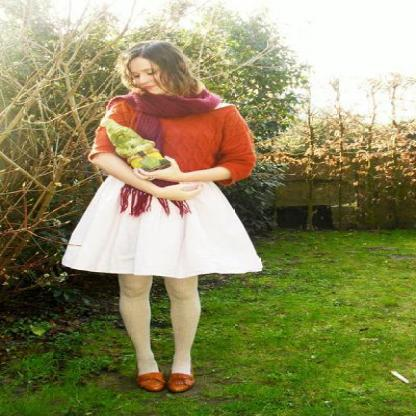jacket: (94, 94, 256, 196)
shoe: (139, 368, 194, 390)
skirt: (61, 176, 261, 278)
